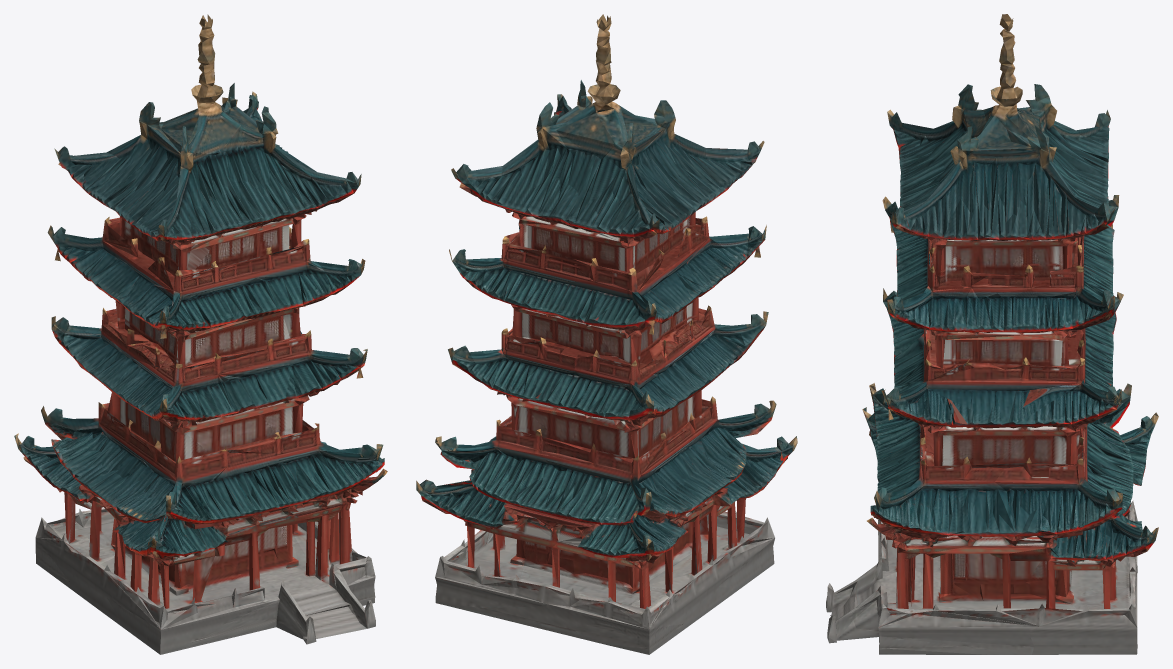
File: pagoda.glb
The picture shows the model from 3 angles, left to right: view 1: azimuth 30°, elevation 25°; view 2: azimuth 150°, elevation 25°; view 3: azimuth 270°, elevation 25°; orthographic projection. The views are drawn at different scales.
Parts seen in each view (by area): view 1: output_unwrapped; view 2: output_unwrapped; view 3: output_unwrapped.
Part boxes in pixels (bbox=[...]): output_unwrapped: bbox=[14, 14, 387, 654]; output_unwrapped: bbox=[416, 14, 797, 654]; output_unwrapped: bbox=[826, 14, 1158, 654].
Size of the model in its own units: 0.8378 by 1.86 by 0.9561.
Materials: 1 (1 with a texture image).
